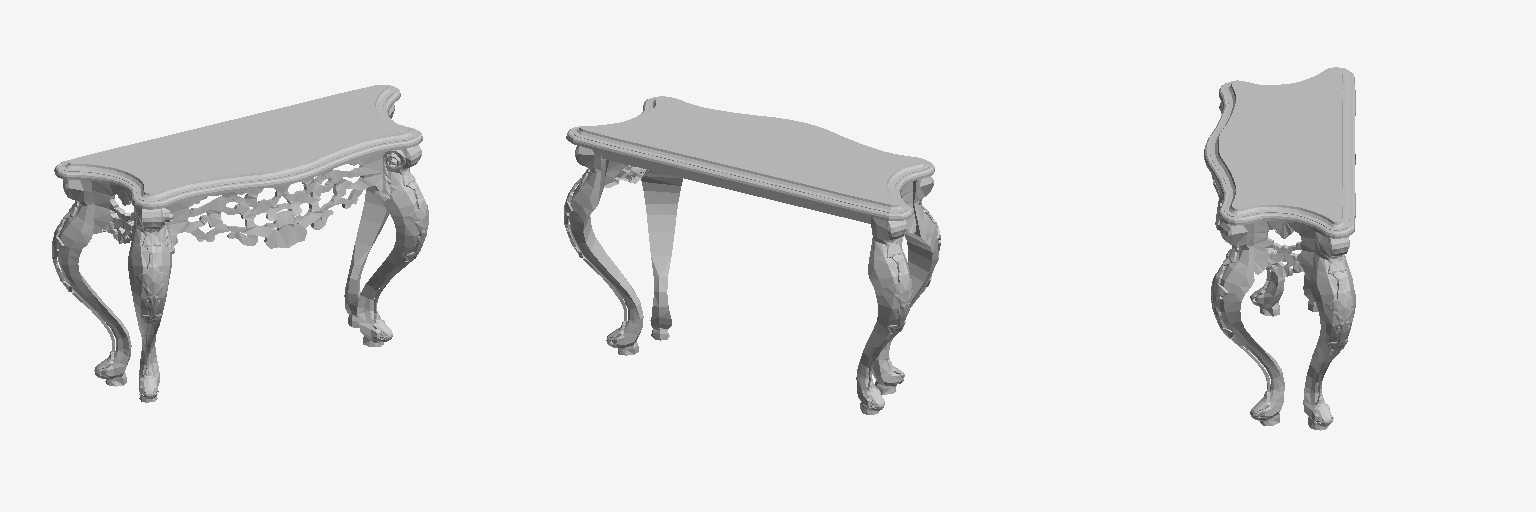
Rendered from console.obj.
3 views of the same model, side by side, from view 1: azimuth 30°, elevation 25°; view 2: azimuth 150°, elevation 25°; view 3: azimuth 270°, elevation 25° (orthographic).
Parts seen in each view (by area): view 1: ClassicConsole_01; view 2: ClassicConsole_01; view 3: ClassicConsole_01.
Boxes of the visible parts, box(x1,y1,x2,y2) form: ClassicConsole_01: box(52, 85, 428, 402); ClassicConsole_01: box(564, 96, 940, 414); ClassicConsole_01: box(1204, 67, 1355, 430).
Bounding box in the file's own units: 1.54 × 0.9491 × 0.5893.